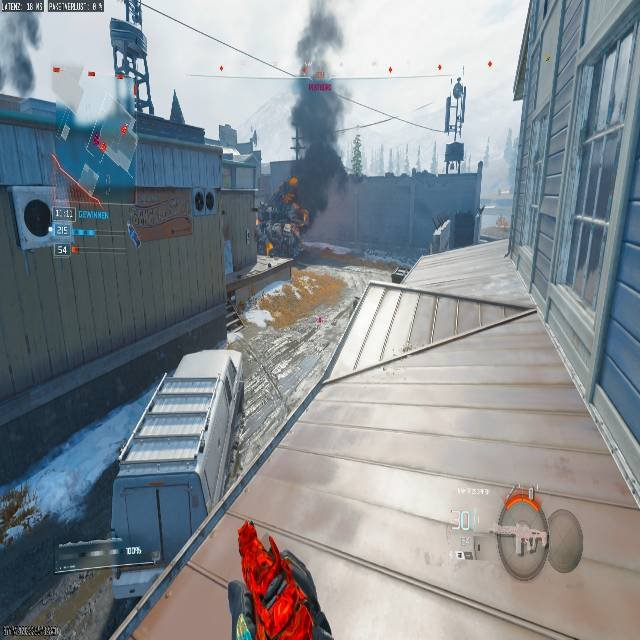head: (282, 177, 298, 197), (281, 190, 298, 204)
player: (267, 182, 309, 260)
